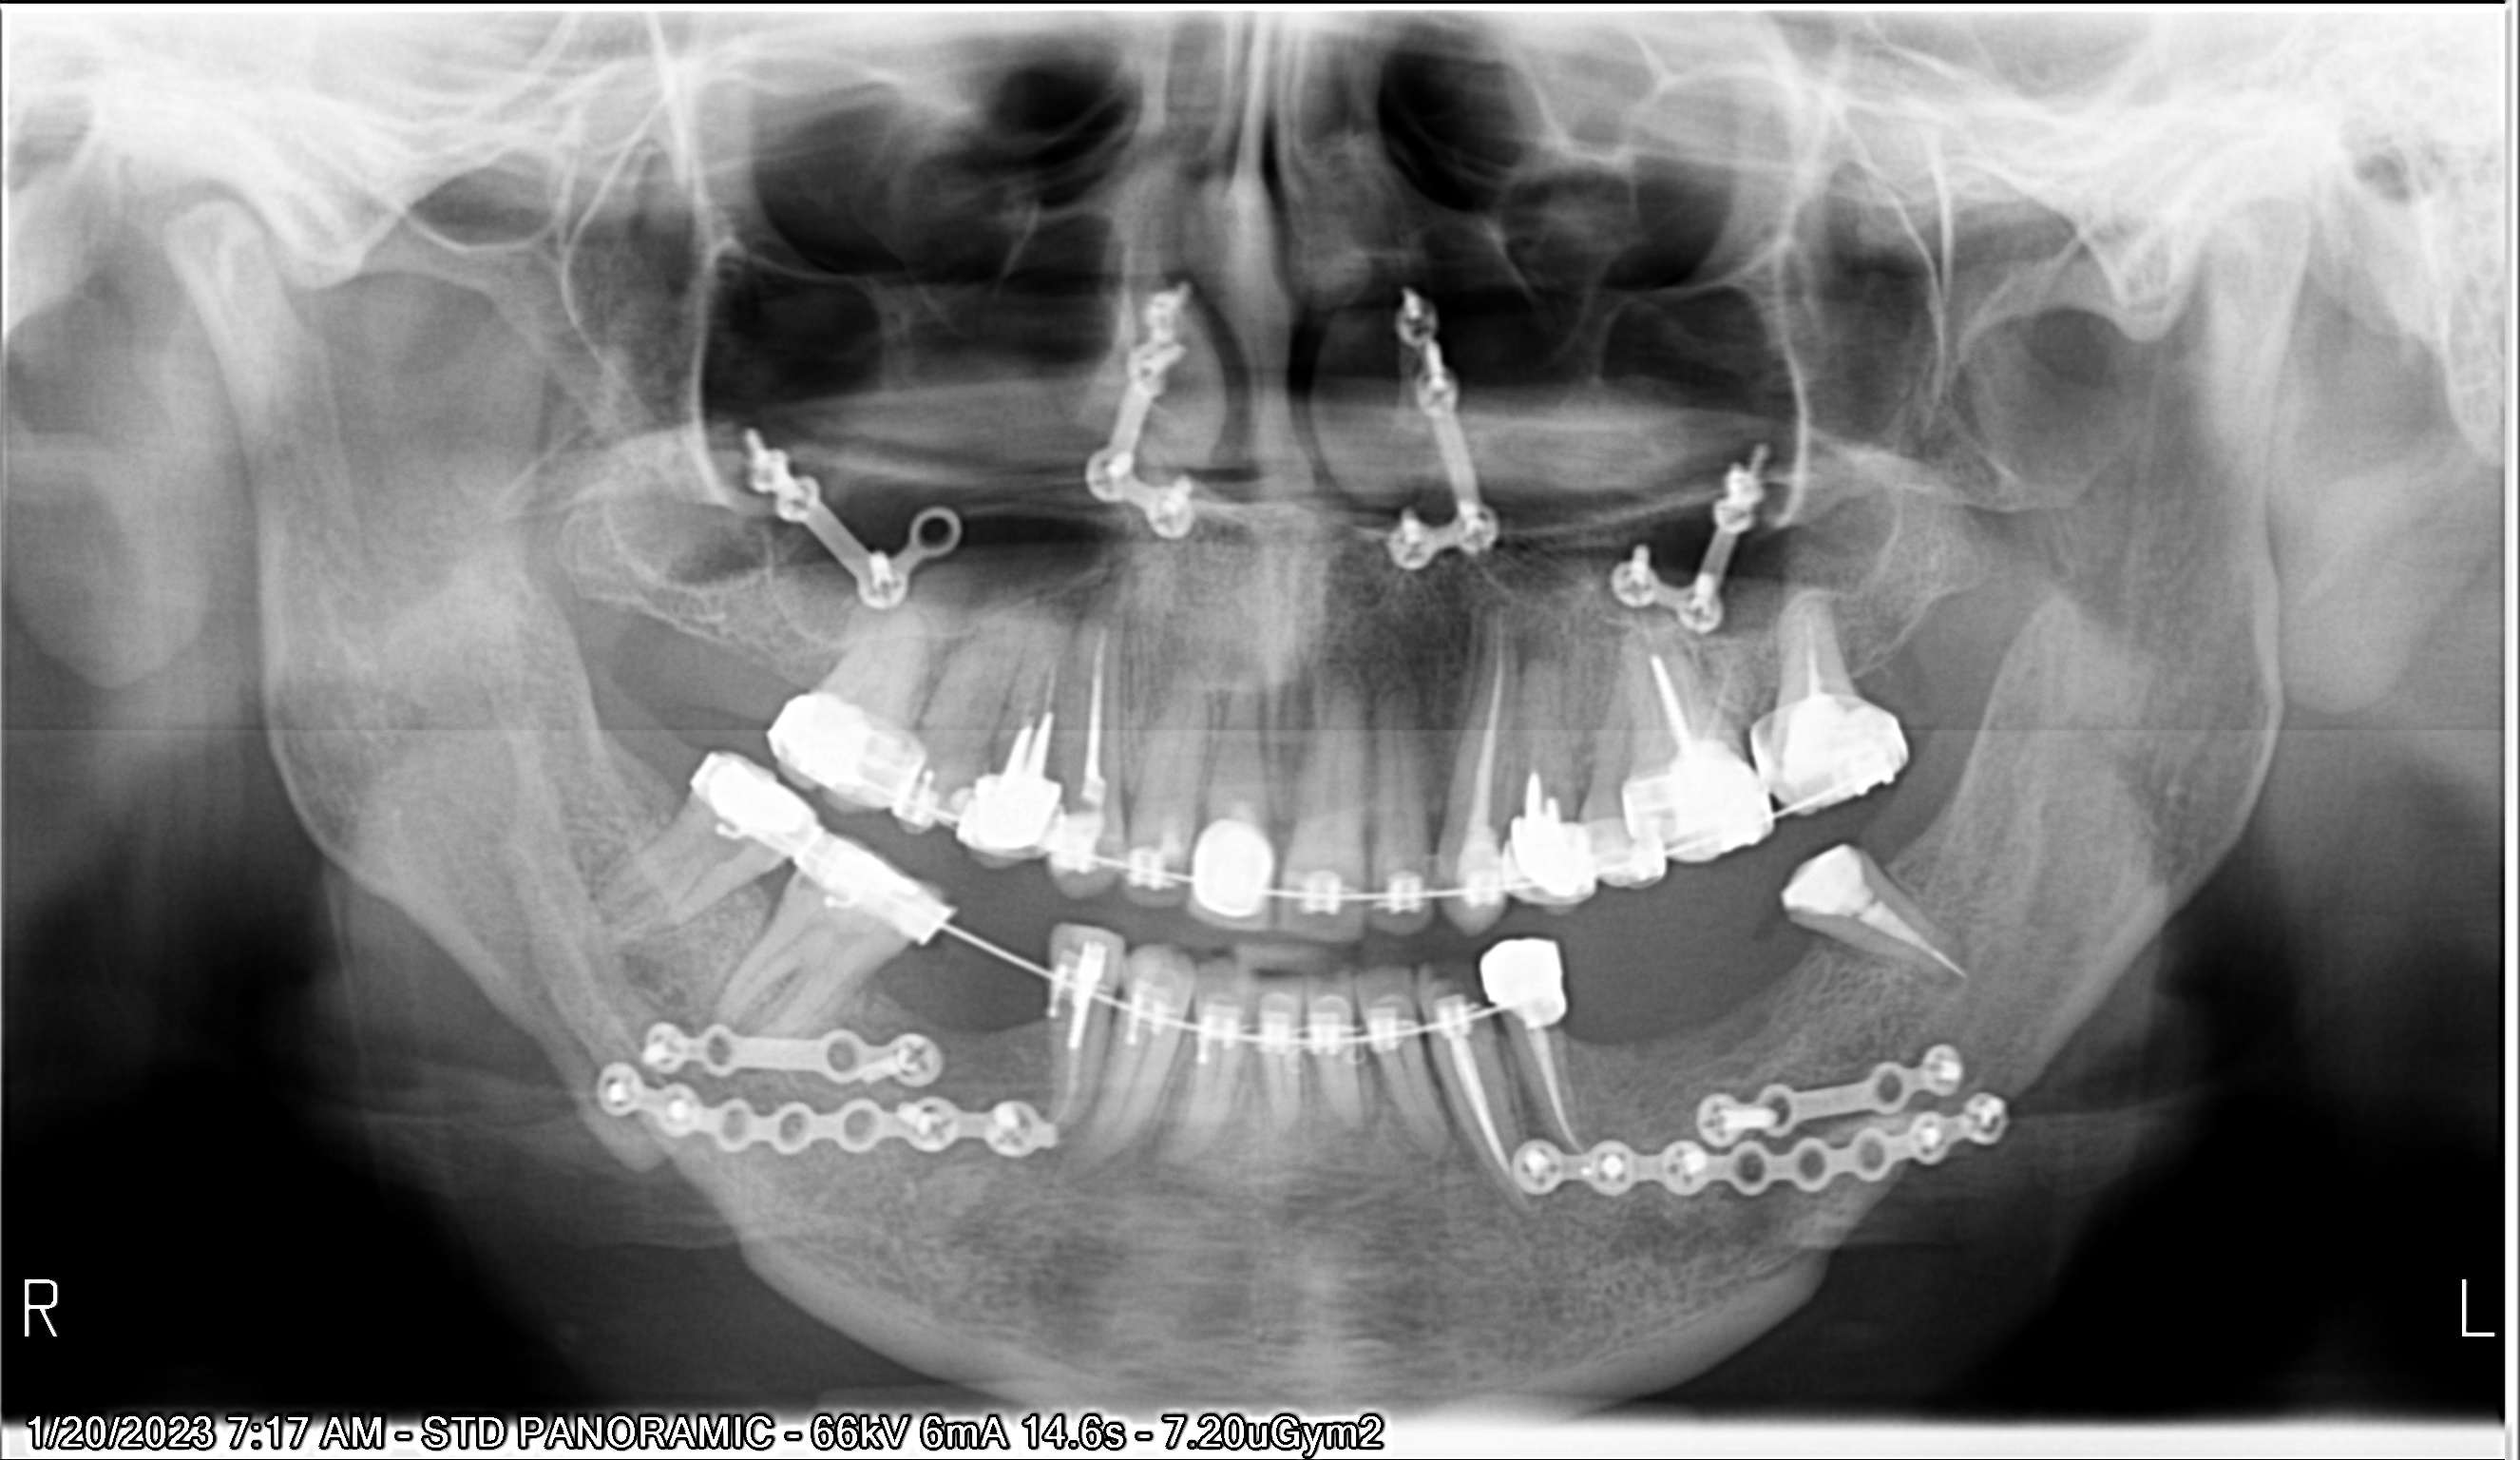CAR: (1530, 1006, 1582, 1045)
END: (1429, 1019, 1556, 1210), (1436, 617, 1539, 848), (1624, 619, 1747, 766), (1853, 886, 1996, 980), (1068, 612, 1134, 810), (1516, 1019, 1598, 1159), (1002, 634, 1073, 744), (1780, 589, 1841, 695)
OBT: (1770, 819, 1881, 935)
ORD: (660, 730, 1676, 1092), (757, 671, 1938, 914)
SRD: (1485, 1046, 2044, 1243), (535, 1036, 1096, 1189), (681, 374, 980, 643), (1358, 254, 1540, 593), (1065, 242, 1259, 551), (1667, 1010, 1987, 1180), (1573, 415, 1804, 638), (639, 987, 980, 1116)
